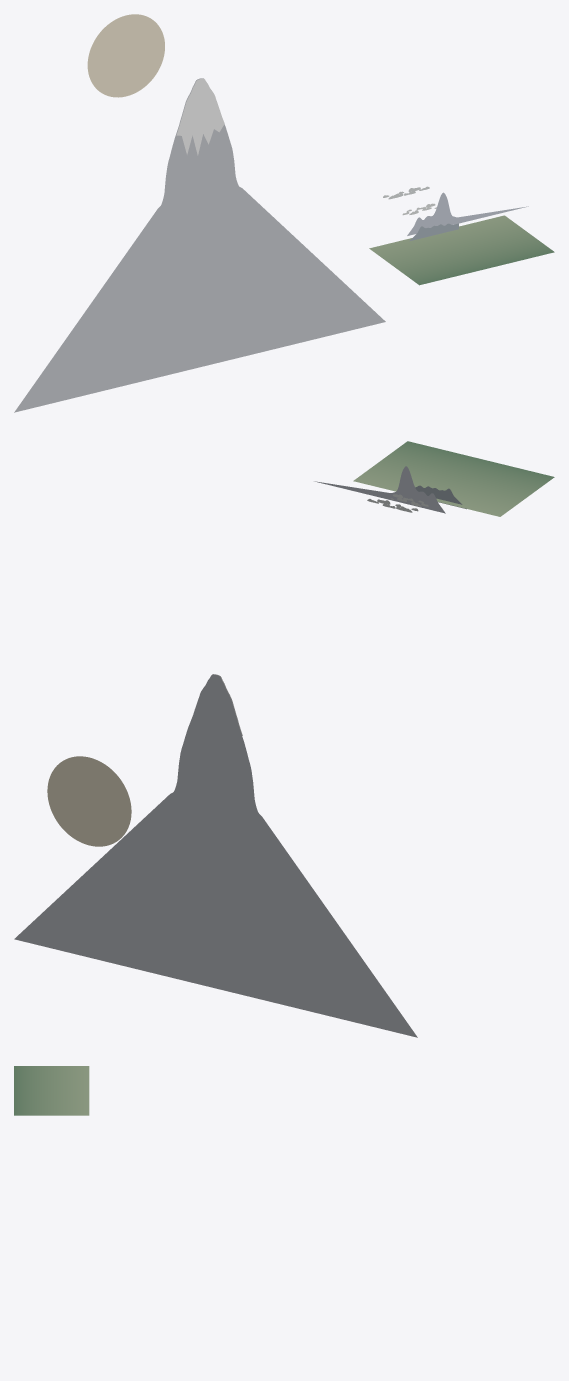
Rendered from zen_scene.glb.
3 renders of one model, top to bottom at view 1: azimuth 30°, elevation 25°; view 2: azimuth 150°, elevation 25°; view 3: azimuth 270°, elevation 25°, orthographic. The views are drawn at different scales.
Visible parts, largest first — view 1: mtn_fuji, ground_near, sun, fuji_snow, mtn_far; view 2: mtn_fuji, ground_near, sun, mtn_far; view 3: ground_near.
Boxes of the visible parts, bbox=[...] form: mtn_fuji: bbox=[14, 78, 385, 412]; ground_near: bbox=[369, 215, 554, 285]; sun: bbox=[87, 14, 164, 97]; fuji_snow: bbox=[176, 78, 224, 155]; mtn_far: bbox=[407, 192, 528, 235]; mtn_fuji: bbox=[14, 674, 417, 1037]; ground_near: bbox=[353, 441, 554, 516]; sun: bbox=[47, 756, 131, 846]; mtn_far: bbox=[314, 466, 445, 513]; ground_near: bbox=[14, 1066, 89, 1115].
Bounding box in the file's own units: 384 × 315 × 645.
